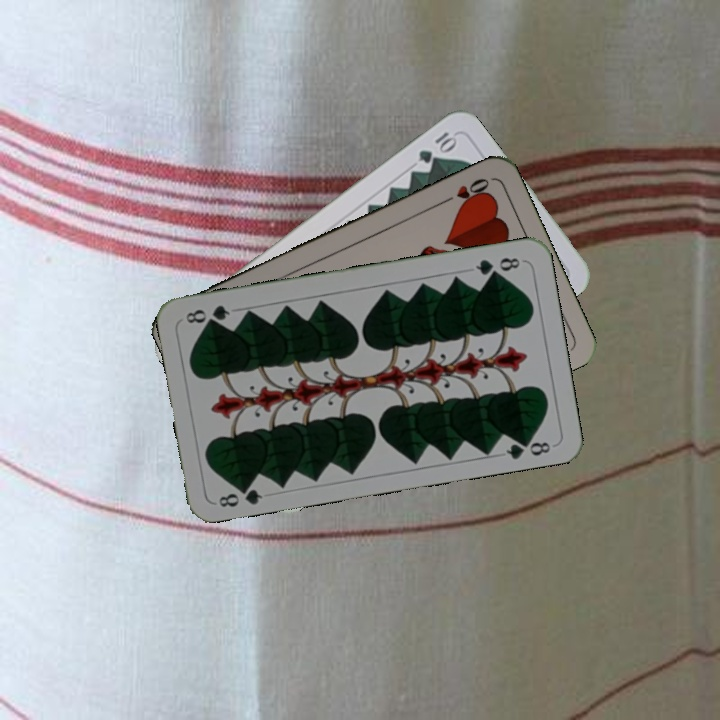G10: (414, 127, 460, 166)
G8: (214, 480, 265, 510), (471, 253, 523, 279)
HO: (438, 174, 492, 208)
